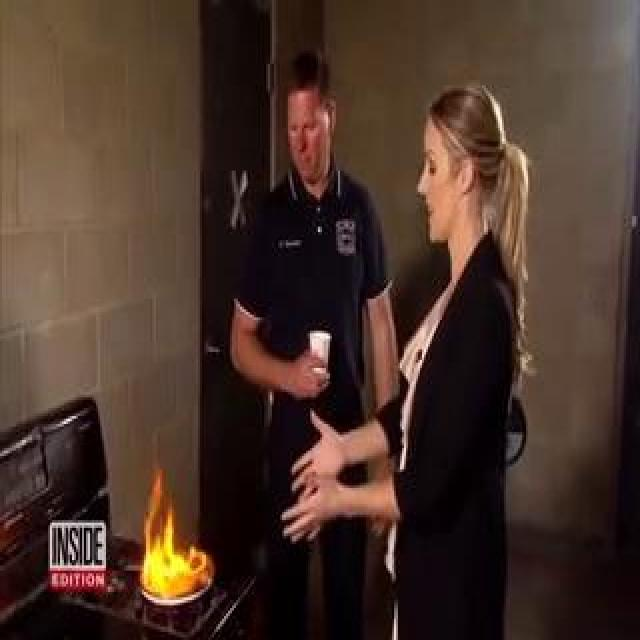Fire: (74, 122, 178, 538)
